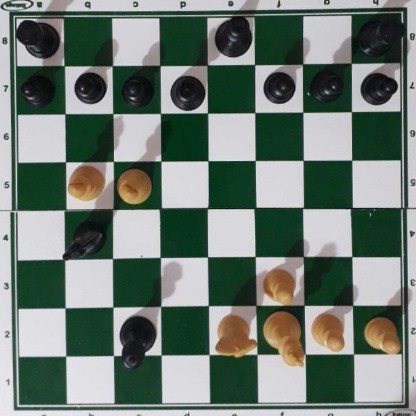black-bishop: (168, 74, 206, 111)
black-king: (212, 14, 253, 57)
black-knight: (61, 215, 106, 261)
black-pawn: (360, 69, 396, 105), (20, 71, 54, 104), (263, 68, 295, 103), (311, 68, 343, 102), (73, 70, 105, 104), (121, 72, 153, 105)
black-queen: (115, 314, 158, 370)
black-rook: (12, 16, 60, 58), (358, 14, 404, 55)
white-bishop: (115, 167, 154, 206), (66, 165, 105, 203)
white-king: (263, 310, 303, 366)
white-knight: (213, 314, 257, 360)
white-pawn: (311, 311, 347, 352), (363, 315, 400, 352), (261, 265, 296, 302)
